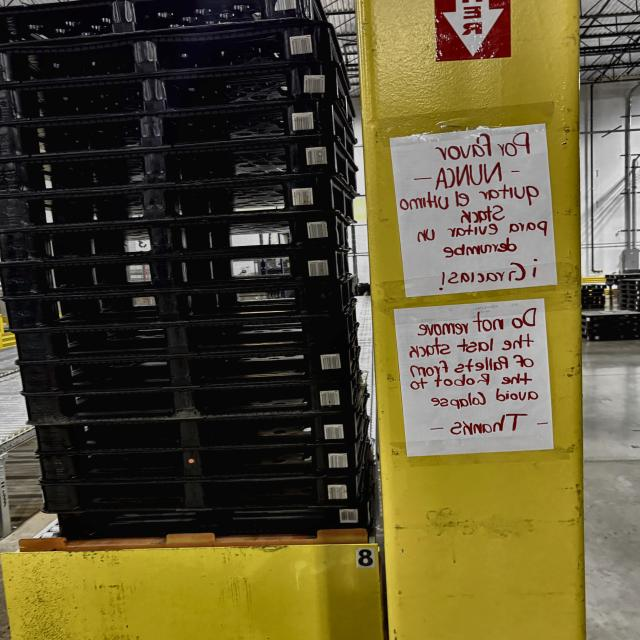igps: (1, 100, 335, 162), (0, 135, 342, 195), (0, 23, 336, 83), (10, 342, 367, 398), (18, 405, 366, 461), (1, 63, 337, 120), (0, 173, 333, 230), (0, 310, 354, 363), (0, 282, 366, 332), (16, 376, 368, 427), (31, 437, 369, 488), (0, 249, 347, 297), (0, 215, 341, 261), (32, 472, 364, 519), (0, 0, 326, 45), (47, 499, 374, 541), (578, 308, 640, 322), (578, 333, 640, 343), (580, 326, 640, 334), (578, 321, 640, 328), (603, 272, 640, 279), (581, 302, 606, 310), (580, 283, 608, 290), (616, 293, 640, 301), (618, 277, 640, 285), (616, 303, 640, 310), (580, 295, 607, 301), (580, 299, 607, 305), (617, 299, 640, 306), (580, 288, 605, 294), (616, 284, 640, 290), (616, 289, 640, 295), (581, 292, 606, 297), (604, 278, 620, 284)
